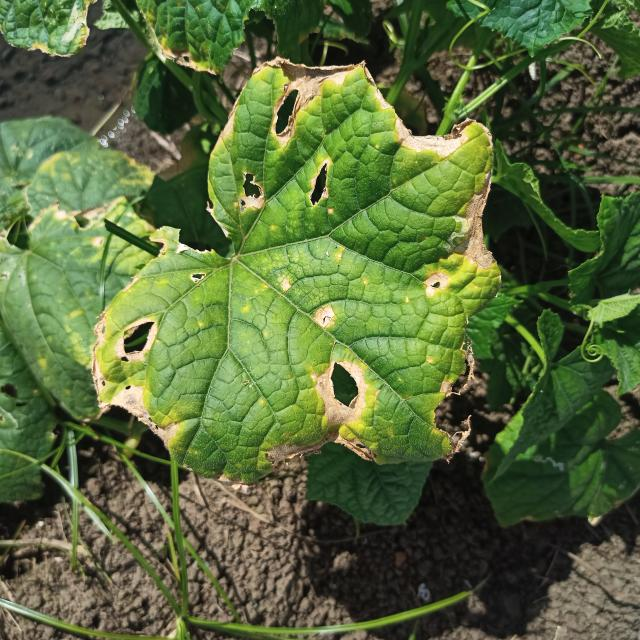disease_cucumber: (93, 61, 502, 485)
